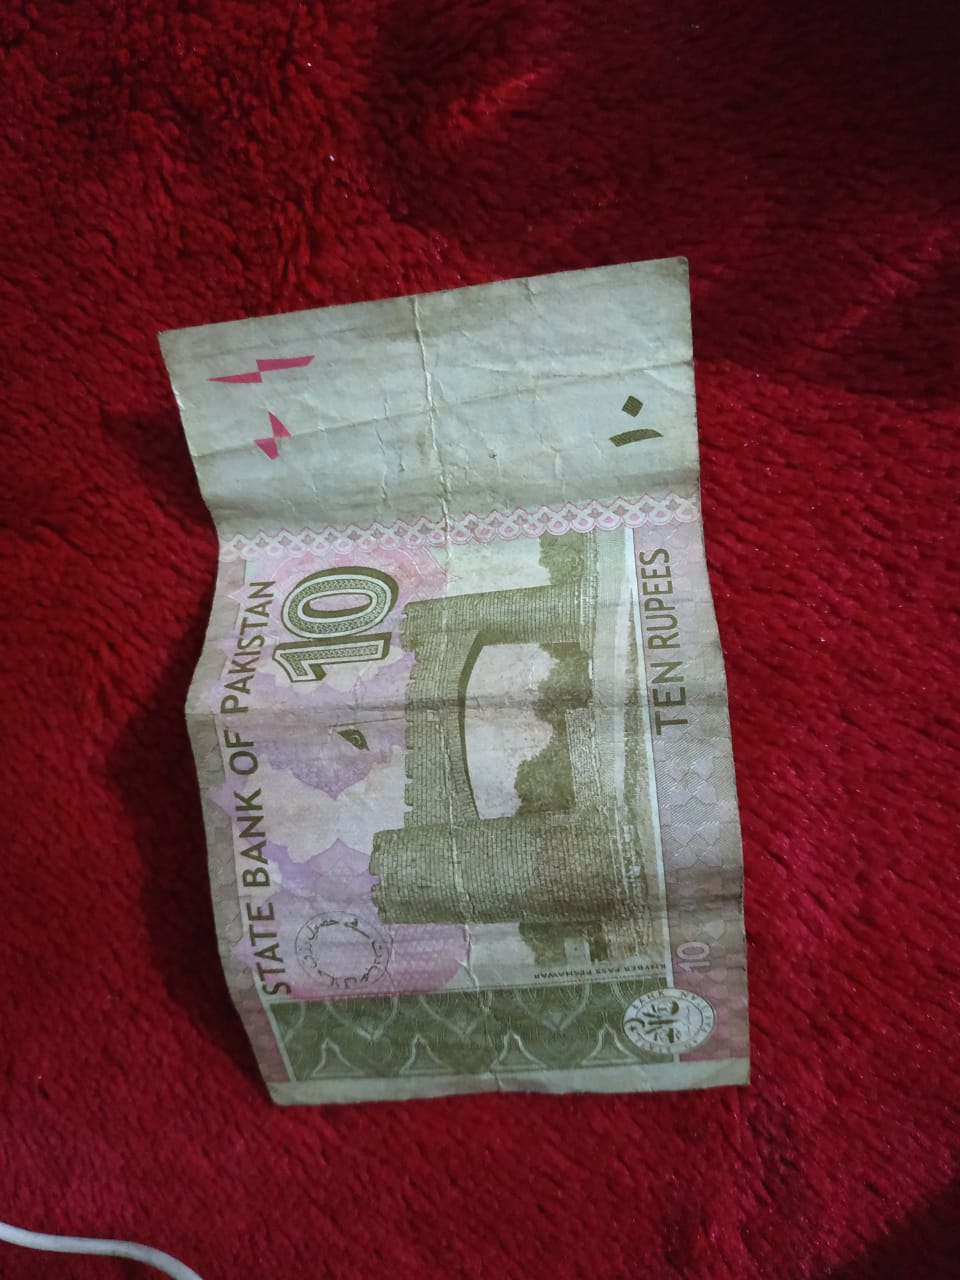10 rupee: (164, 264, 758, 1100)
